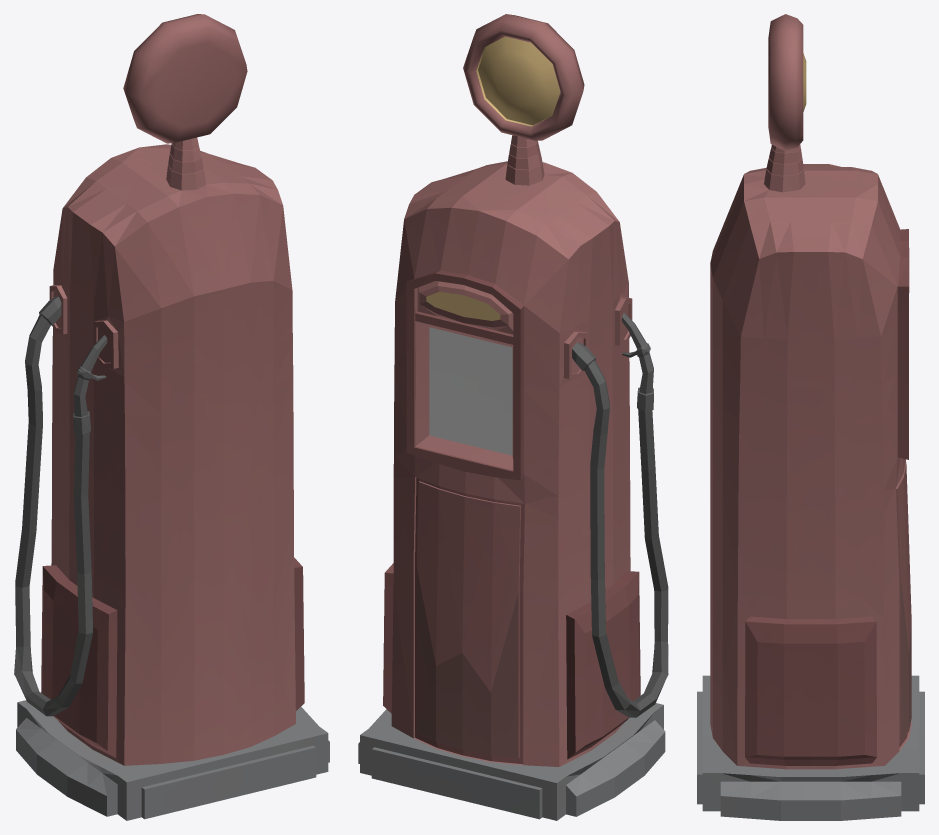
File: gas_pump_A.obj
3 views of the same model, side by side, from view 1: azimuth 30°, elevation 25°; view 2: azimuth 150°, elevation 25°; view 3: azimuth 270°, elevation 25° (orthographic). The views are drawn at different scales.
Parts seen in each view (by area): view 1: gas_pump_A_body_Mesh, gas_pump_A_head_Mesh, gas_pump_A_hose_Mesh, gas_pump_A_nozzle_Mesh; view 2: gas_pump_A_body_Mesh, gas_pump_A_head_Mesh, gas_pump_A_hose_Mesh, gas_pump_A_nozzle_Mesh; view 3: gas_pump_A_body_Mesh, gas_pump_A_head_Mesh.
Boxes of the visible parts, left/top/right/bottom form: gas_pump_A_body_Mesh: left=16, top=137, right=329, bottom=820; gas_pump_A_head_Mesh: left=123, top=14, right=247, bottom=143; gas_pump_A_hose_Mesh: left=14, top=296, right=92, bottom=716; gas_pump_A_nozzle_Mesh: left=73, top=335, right=107, bottom=434; gas_pump_A_body_Mesh: left=358, top=135, right=665, bottom=820; gas_pump_A_head_Mesh: left=463, top=14, right=584, bottom=140; gas_pump_A_hose_Mesh: left=572, top=342, right=668, bottom=717; gas_pump_A_nozzle_Mesh: left=622, top=313, right=653, bottom=411; gas_pump_A_body_Mesh: left=697, top=144, right=924, bottom=820; gas_pump_A_head_Mesh: left=768, top=14, right=806, bottom=151.
Size of the model in its own units: 0.9904 by 2.71 by 0.7562.
